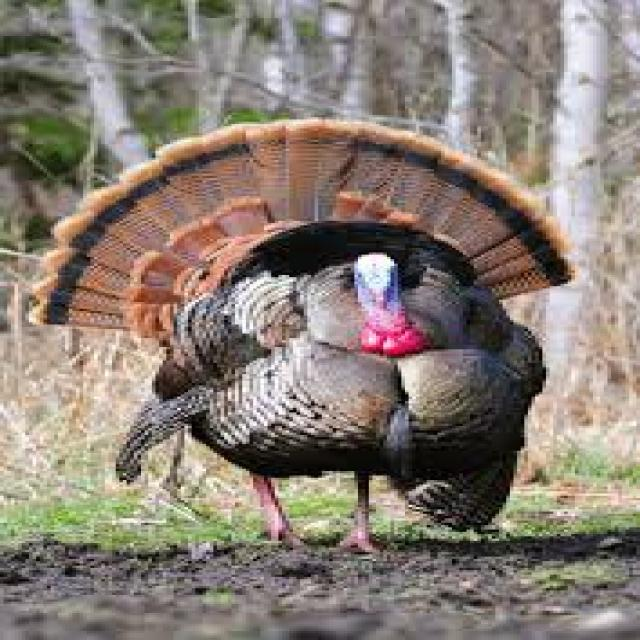Turkey: (28, 102, 588, 556)
